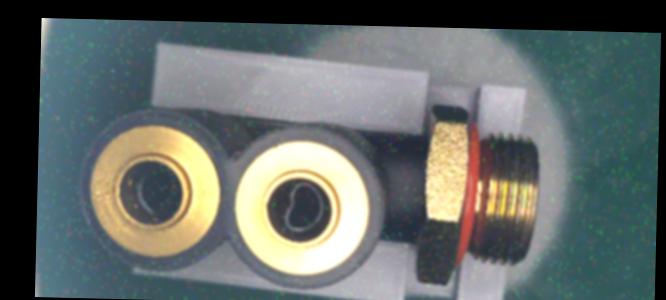joint line: (386, 190, 423, 201)
off-centered: (276, 173, 333, 237), (128, 162, 185, 222)
